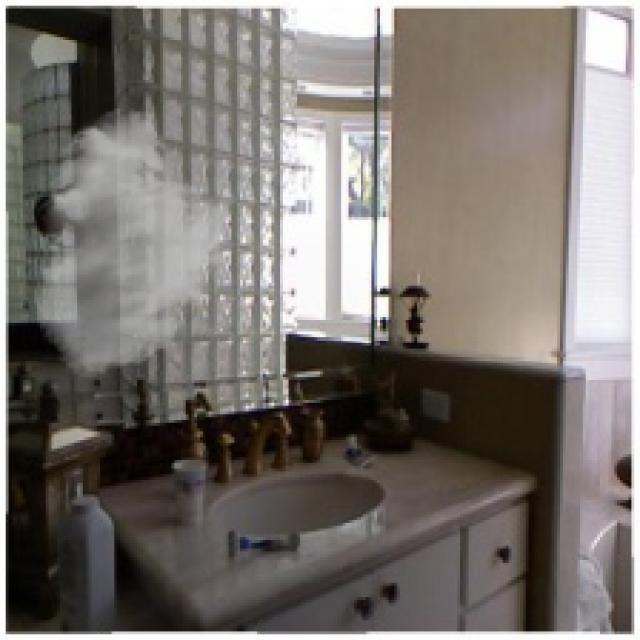Smoke: (31, 106, 238, 380)
